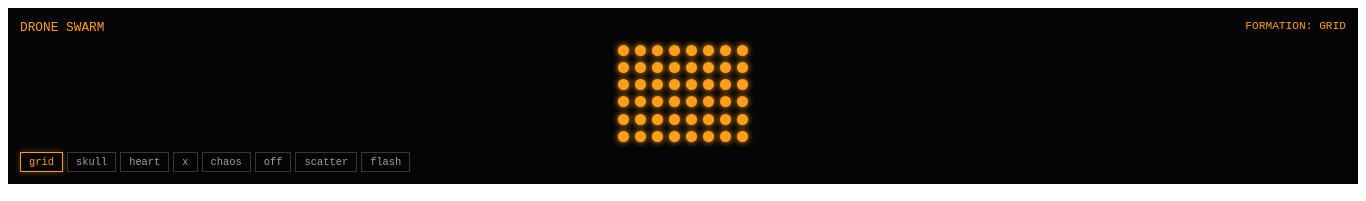
Test: DroneSwarm Component › should switch to HEART formation on button click
The width and height of the screenshot is (1366, 201).
Click the button "heart" at (145,162), box [120, 152, 169, 172]
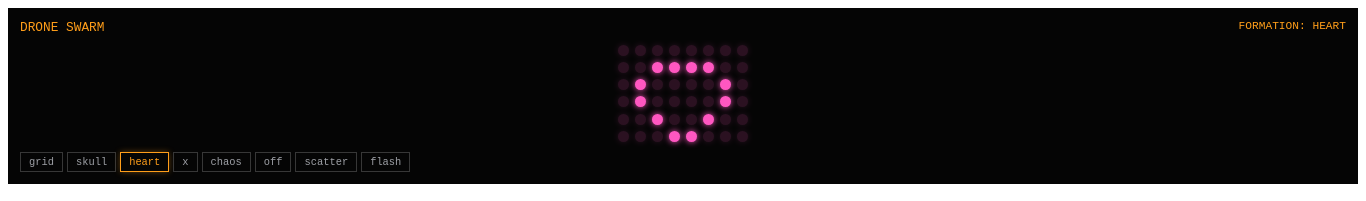
Result: the text "FORMATION: HEART" is shown at [1239, 20, 1346, 35]
